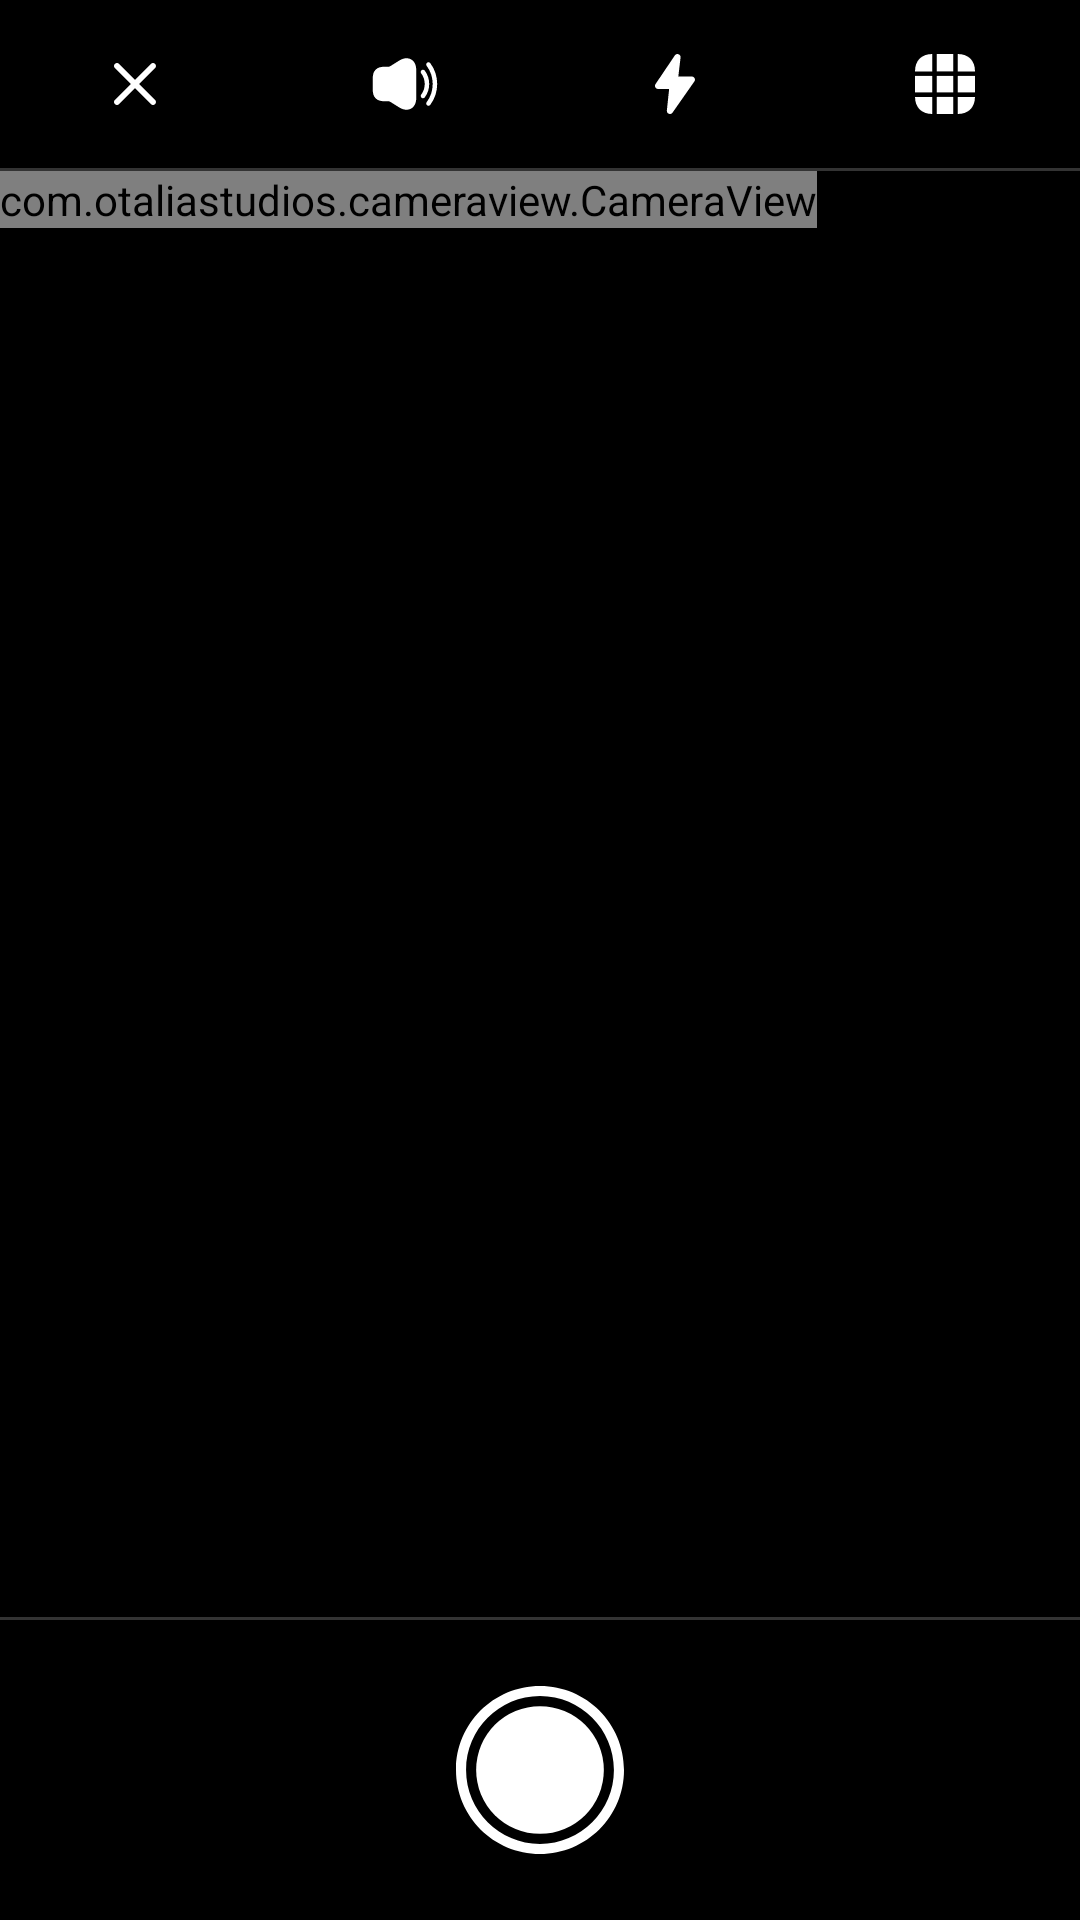

Where icons sit on this 1080 x 1920 app screen, as (x1, y1, x2, y2):
camera: (456, 1686, 624, 1854)
close: (114, 63, 156, 105)
flash on: (655, 54, 695, 114)
grid: (915, 54, 975, 114)
sound: (372, 58, 438, 110)
